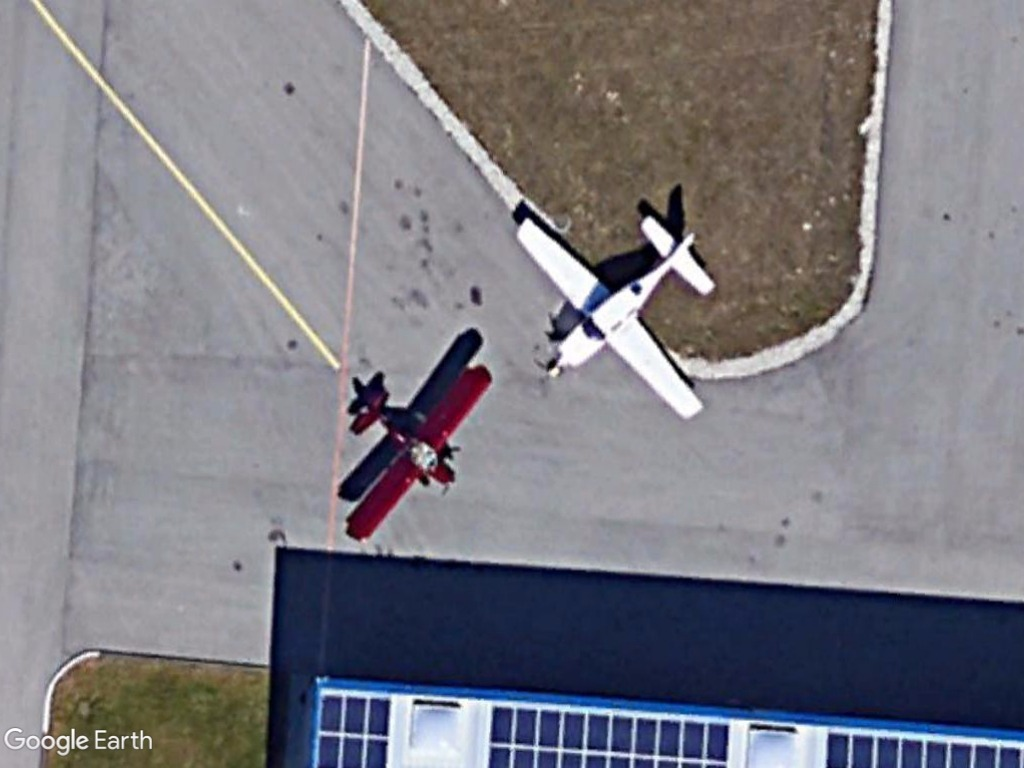trainer: (516, 211, 719, 423), (341, 362, 492, 545)
